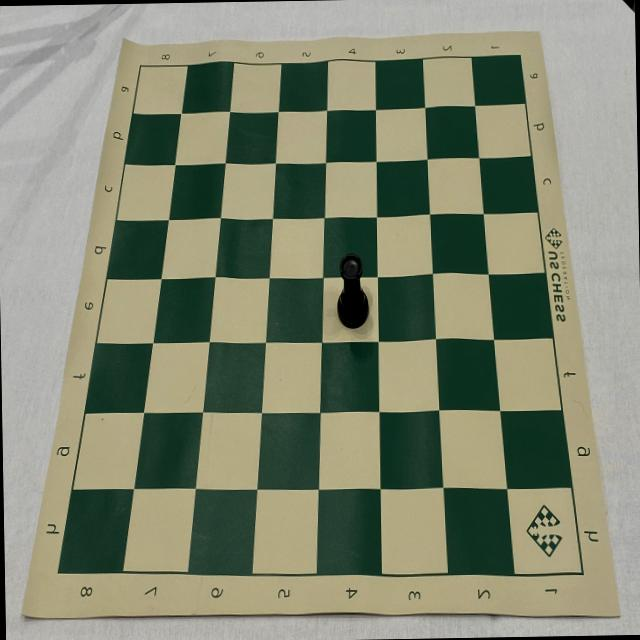black-rook: (335, 252, 370, 331)
